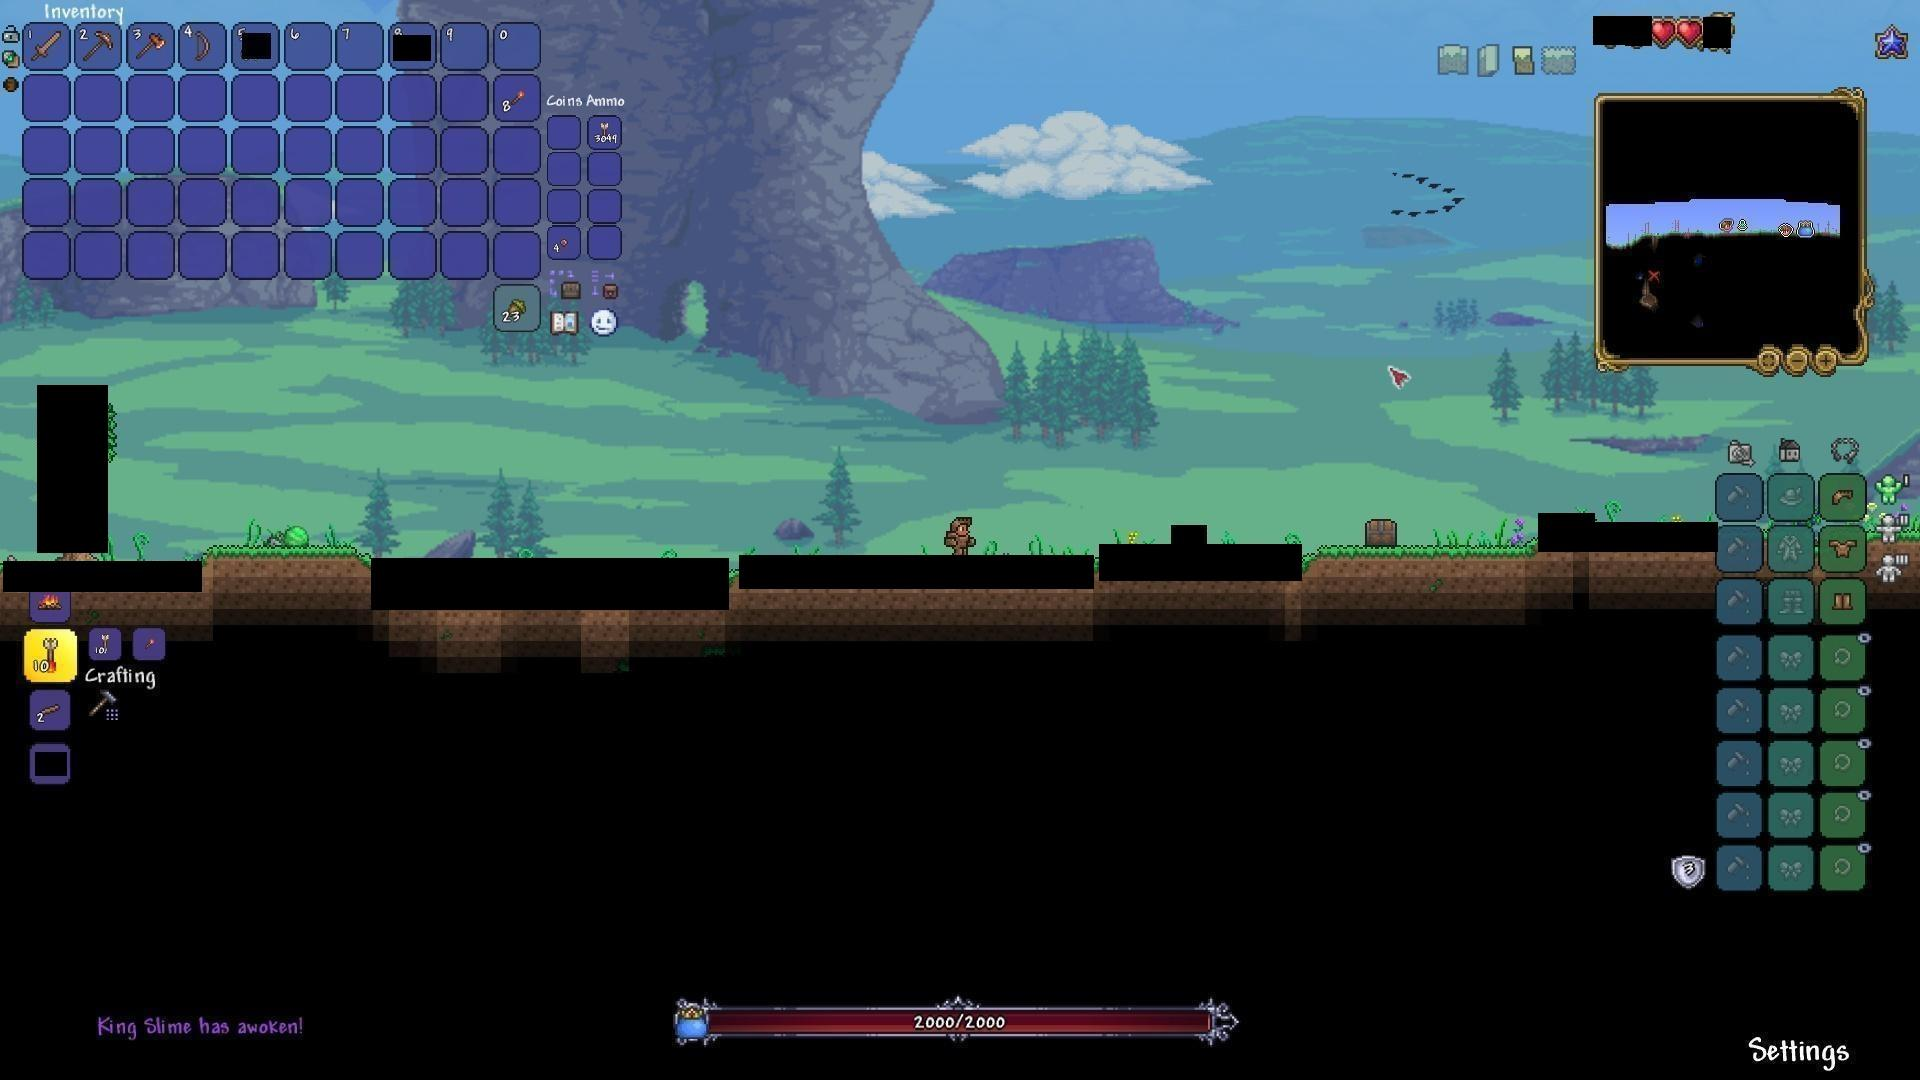breastplate: (1830, 538, 1859, 559)
dirt: (1302, 541, 1538, 574), (202, 547, 372, 592)
heart: (1676, 17, 1704, 47), (1648, 17, 1676, 47)
helmet: (1829, 483, 1859, 510)
legs: (1832, 587, 1855, 616)
slime: (277, 527, 313, 553)
